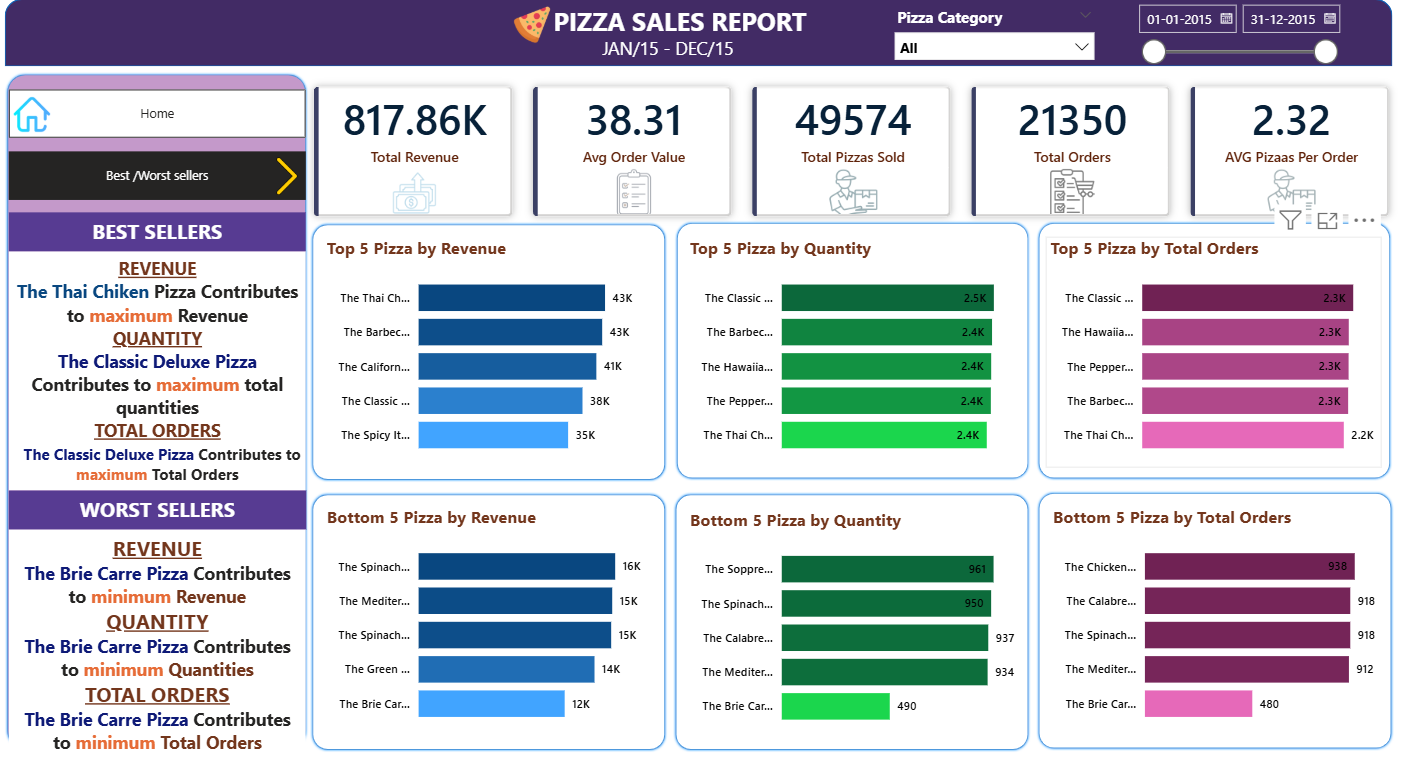

Layout of this report page (visuals, bound fields, positions):
{"tool":"powerbi","page":{"name":"Best /Worst sellers","canvas":[1500,820],"ordinal":1},"visuals":[{"type":"cardVisual","fields":{"Data":["pizza_sales_db pizza_sales.Total Revenue","pizza_sales_db pizza_sales.Avg Order Value","pizza_sales_db pizza_sales.Total Pizzas Sold","pizza_sales_db pizza_sales.Total Orders","pizza_sales_db pizza_sales.AVG Pizaas Per Order"]},"box":[316.4,75.3,1183.6,179.5],"z":0},{"type":"shape","box":[11,4.1,1468.5,71.2],"z":1000},{"type":"textbox","box":[579.5,4.1,291.8,46.6],"z":2000},{"type":"textbox","box":[634.2,38.4,157.5,41.1],"z":3000},{"type":"image","box":[367.1,11,404.1,39.7],"z":4000},{"type":"shape","box":[334.3,240,378.6,275.7],"z":5000},{"type":"shape","box":[11.4,81.4,321.4,718.6],"z":6000},{"type":"textbox","box":[15.7,230,314.3,41.4],"z":7000},{"type":"textbox","box":[15.6,524.4,314.4,41.1],"z":8000},{"type":"textbox","box":[15.7,271.4,314.3,252.9],"z":9000},{"type":"textbox","box":[15.7,565.7,314.3,244.3],"z":10000},{"type":"slicer","fields":{"Values":["pizza_sales_db pizza_sales.pizza_category"]},"box":[942.9,7.1,231.4,68.6],"z":11000},{"type":"slicer","fields":{"Values":["pizza_sales_db pizza_sales.order_date"]},"box":[1198.6,0,231.4,75.7],"z":12000},{"type":"shape","box":[720,238.6,377.1,275.7],"z":13000},{"type":"shape","box":[1102.9,238.6,377.1,275.7],"z":14000},{"type":"shape","box":[334.3,525.7,378.6,275.7],"z":15000},{"type":"shape","box":[718.6,525.7,378.6,275.7],"z":16000},{"type":"shape","box":[1102.9,524.3,378.6,275.7],"z":17000},{"type":"barChart","title":"Top 5 Pizza by Revenue","fields":{"Category":["pizza_sales_db pizza_sales.pizza_name"],"Y":["pizza_sales_db pizza_sales.Total Revenue"]},"box":[347.1,255.7,354.3,244.3],"z":18000},{"type":"barChart","title":"Bottom 5 Pizza by Revenue","fields":{"Category":["pizza_sales_db pizza_sales.pizza_name"],"Y":["pizza_sales_db pizza_sales.Total Revenue"]},"box":[347.1,540,354.3,244.3],"z":19000},{"type":"barChart","title":"Top 5 Pizza by Quantity","fields":{"Category":["pizza_sales_db pizza_sales.pizza_name"],"Y":["pizza_sales_db pizza_sales.Total Pizzas Sold"]},"box":[731.4,255.7,355.7,244.3],"z":20000},{"type":"barChart","title":"Bottom 5 Pizza by Quantity","fields":{"Category":["pizza_sales_db pizza_sales.pizza_name"],"Y":["pizza_sales_db pizza_sales.Total Pizzas Sold"]},"box":[731.4,542.9,355.7,244.3],"z":21000},{"type":"barChart","title":"Top 5 Pizza by Total Orders","fields":{"Category":["pizza_sales_db pizza_sales.pizza_name"],"Y":["pizza_sales_db pizza_sales.Total Orders"]},"box":[1112.9,255.7,355.7,244.3],"z":22000},{"type":"barChart","title":"Bottom 5 Pizza by Total Orders","fields":{"Category":["pizza_sales_db pizza_sales.pizza_name"],"Y":["pizza_sales_db pizza_sales.Total Orders"]},"box":[1115.7,540,355.7,244.3],"z":23000},{"type":"pageNavigator","box":[15.7,165.7,314.3,51.4],"z":24000},{"type":"pageNavigator","box":[15.7,100,314.3,51.4],"z":25000},{"type":"image","box":[290,165.7,40,51.4],"z":26000},{"type":"image","box":[15.7,107.1,48.6,38.6],"z":27000}]}

Visuals, with their boxes in screenshot pixels (x1, y1, x2, y2), scaled from the page's 1500x820 canvas onto the 1403x758 screenshot:
cardVisual - pizza_sales_db pizza_sales.Total Revenue x pizza_sales_db pizza_sales.Avg Order Value: <region>296, 70, 1402, 236</region>
shape: <region>10, 4, 1384, 70</region>
textbox: <region>542, 4, 815, 47</region>
textbox: <region>593, 35, 741, 73</region>
image: <region>343, 10, 721, 47</region>
shape: <region>313, 222, 667, 477</region>
shape: <region>11, 75, 311, 740</region>
textbox: <region>15, 213, 309, 251</region>
textbox: <region>15, 485, 309, 523</region>
textbox: <region>15, 251, 309, 485</region>
textbox: <region>15, 523, 309, 749</region>
slicer - pizza_sales_db pizza_sales.pizza_category: <region>882, 7, 1098, 70</region>
slicer - pizza_sales_db pizza_sales.order_date: <region>1121, 0, 1338, 70</region>
shape: <region>673, 221, 1026, 475</region>
shape: <region>1032, 221, 1384, 475</region>
shape: <region>313, 486, 667, 741</region>
shape: <region>672, 486, 1026, 741</region>
shape: <region>1032, 485, 1386, 740</region>
"Top 5 Pizza by Revenue" barChart: <region>325, 236, 656, 462</region>
"Bottom 5 Pizza by Revenue" barChart: <region>325, 499, 656, 725</region>
"Top 5 Pizza by Quantity" barChart: <region>684, 236, 1017, 462</region>
"Bottom 5 Pizza by Quantity" barChart: <region>684, 502, 1017, 728</region>
"Top 5 Pizza by Total Orders" barChart: <region>1041, 236, 1374, 462</region>
"Bottom 5 Pizza by Total Orders" barChart: <region>1044, 499, 1376, 725</region>
pageNavigator: <region>15, 153, 309, 201</region>
pageNavigator: <region>15, 92, 309, 140</region>
image: <region>271, 153, 309, 201</region>
image: <region>15, 99, 60, 135</region>
